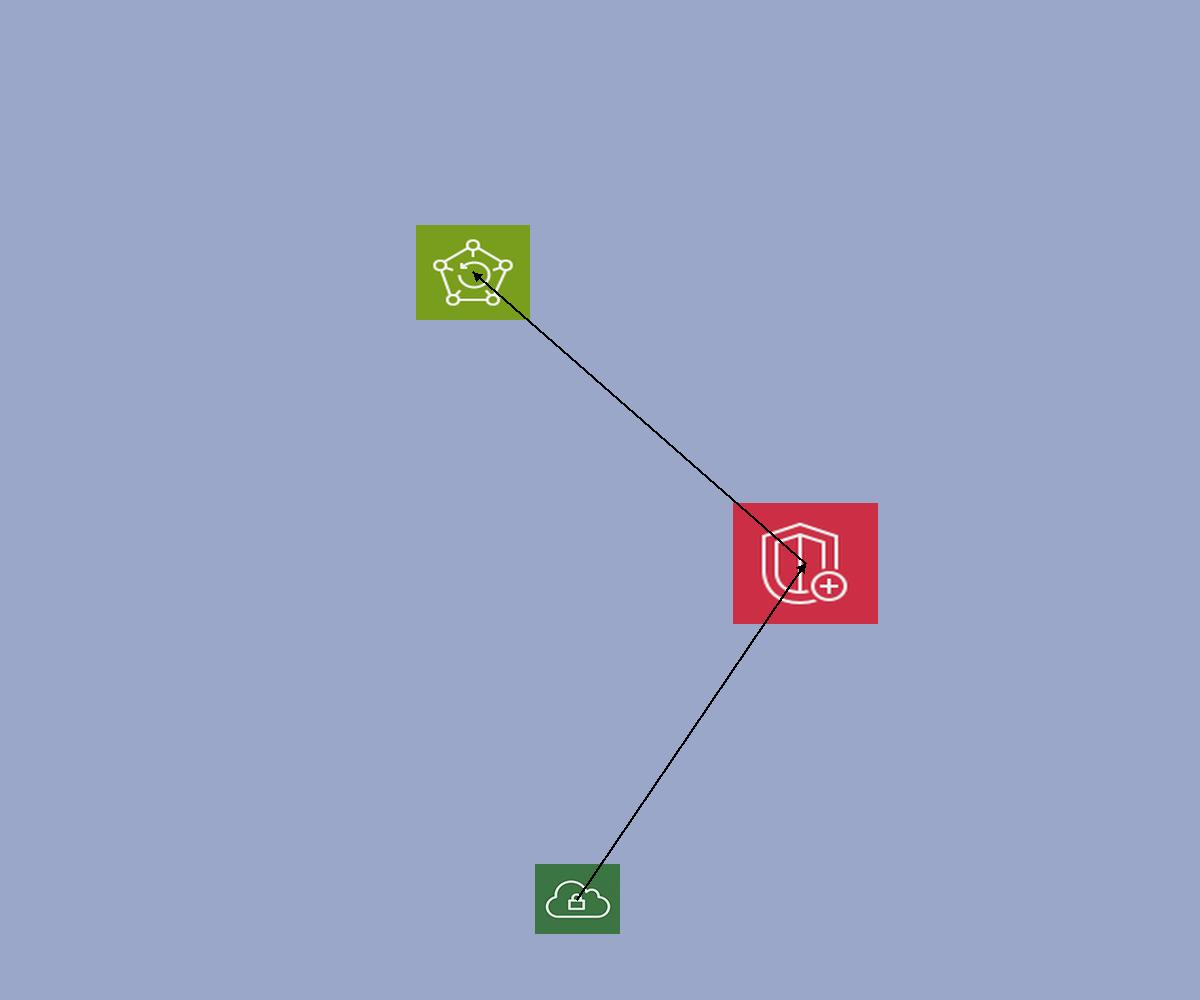AWS-Backup: (416, 225, 530, 320)
AWS-Private_vpc: (535, 864, 620, 934)
AWS-Shield: (733, 503, 878, 624)
